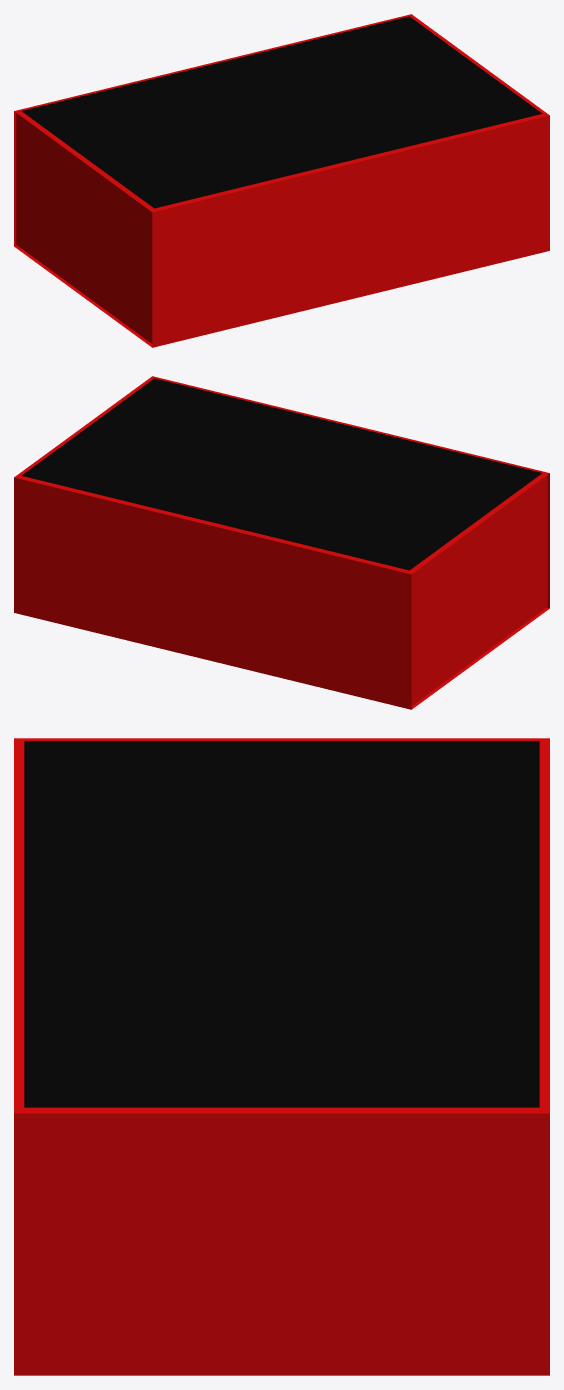
Rendered from drawer.glb.
3 renders of one model, top to bottom at view 1: azimuth 30°, elevation 25°; view 2: azimuth 150°, elevation 25°; view 3: azimuth 270°, elevation 25°, orthographic. The views are drawn at different scales.
Parts seen in each view (by area): view 1: Lid, LogoPlane, Base; view 2: Lid, LogoPlane, Base; view 3: LogoPlane, Lid.
Boxes of the visible parts, <box> form: Lid: <box>14,14,549,347</box>; LogoPlane: <box>21,16,542,208</box>; Base: <box>16,113,152,343</box>; Lid: <box>14,376,549,709</box>; LogoPlane: <box>21,378,542,570</box>; Base: <box>411,475,547,705</box>; LogoPlane: <box>24,741,539,1107</box>; Lid: <box>14,738,549,1375</box>.
Size of the model in its own units: 252 by 82.52 by 152.
7 materials, 1 textured.
